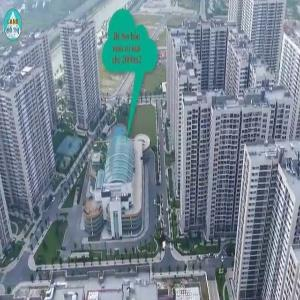drone: (134, 213, 189, 268)
